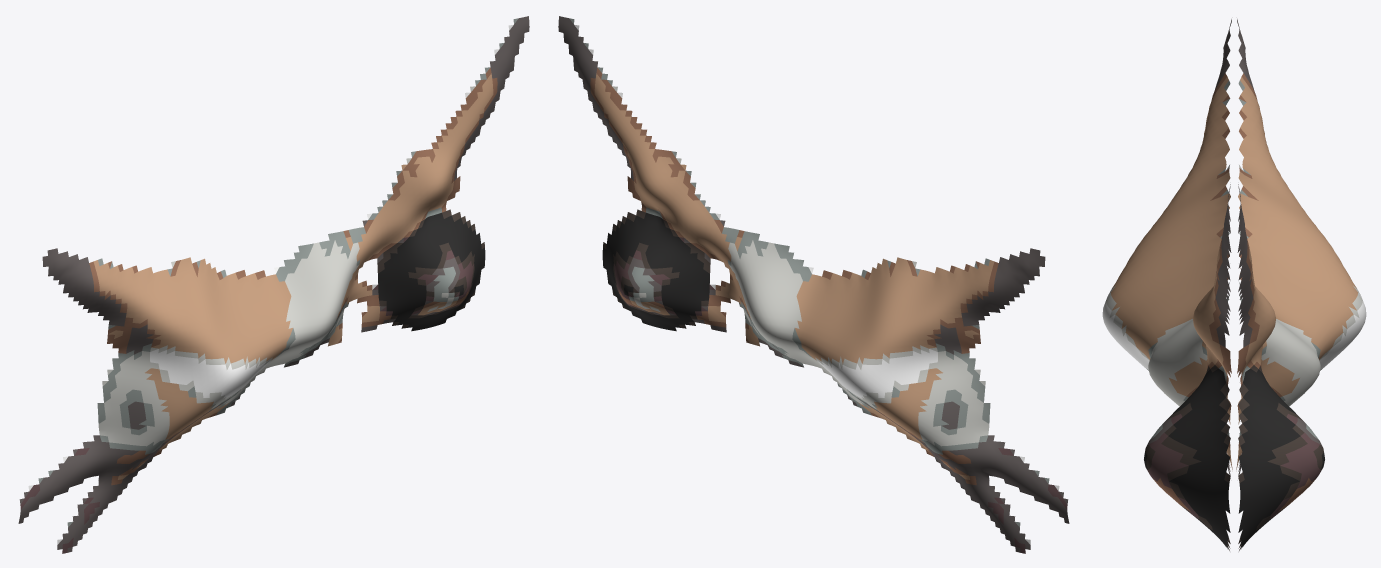
Rendered from mperodactyl.glb.
3 views of the same model, side by side, from view 1: azimuth 30°, elevation 25°; view 2: azimuth 150°, elevation 25°; view 3: azimuth 270°, elevation 25° (orthographic). The views are drawn at different scales.
Parts seen in each view (by area): view 1: mperodactyl; view 2: mperodactyl; view 3: mperodactyl.
Part boxes in pixels (bbox=[...]): mperodactyl: bbox=[18, 16, 529, 553]; mperodactyl: bbox=[558, 16, 1069, 553]; mperodactyl: bbox=[1102, 19, 1366, 550].
Size of the model in its own units: 867 by 690 by 261.
